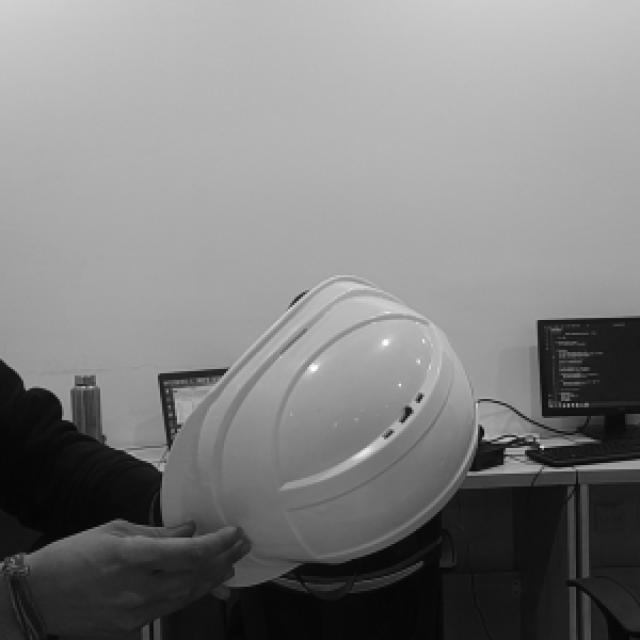safety_helmet: (161, 274, 479, 588)
